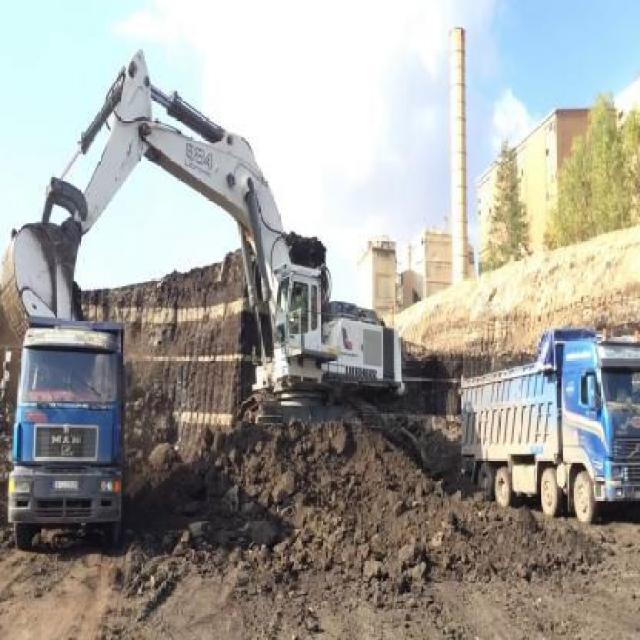dump truck: (448, 323, 638, 528), (7, 315, 121, 568)
excavator: (1, 43, 408, 440)
